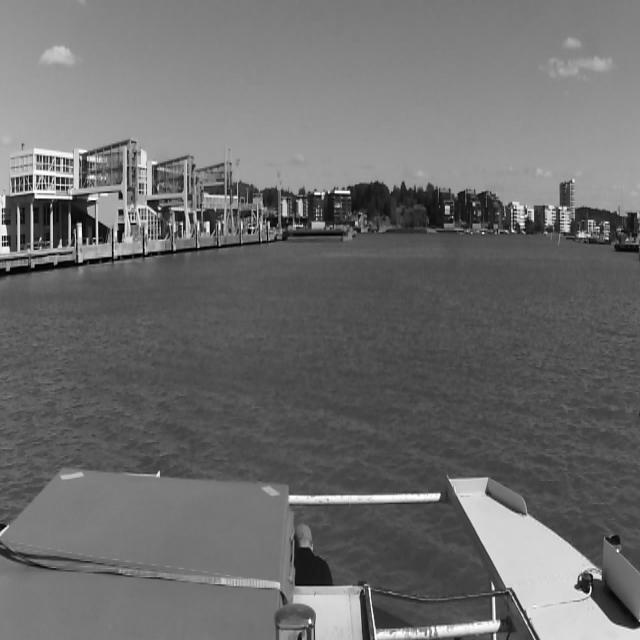buoy: (556, 230, 562, 250)
ship: (589, 232, 611, 244)
